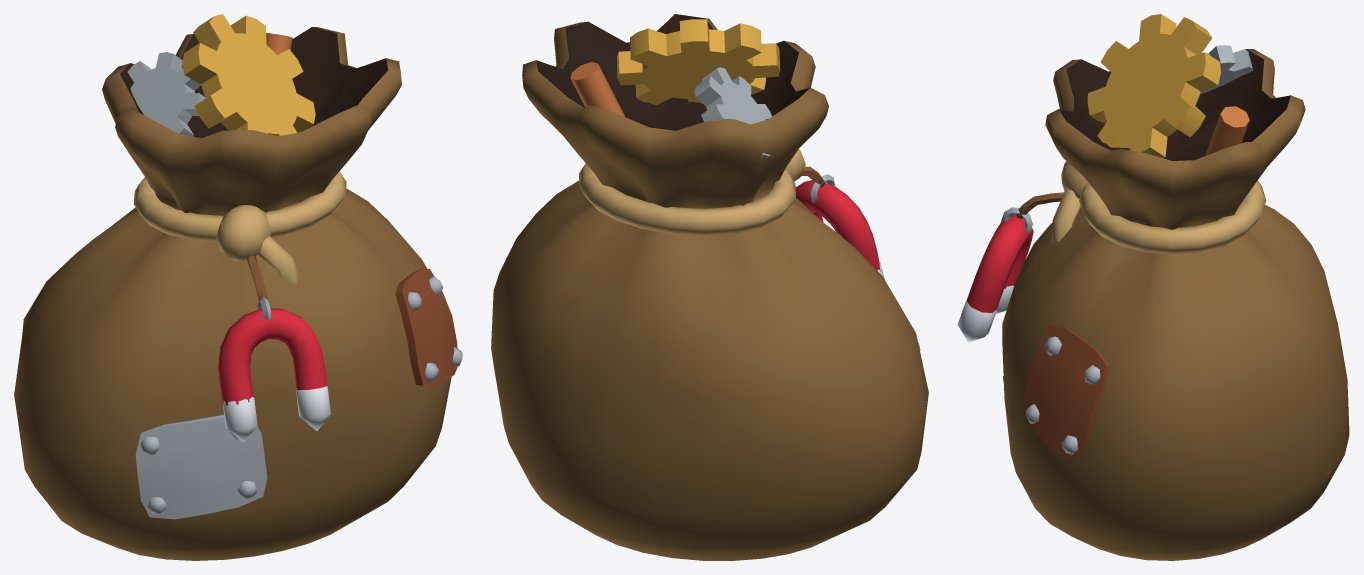
The model's file is item_pouch_scavenger.glb.
3 views of the same model, side by side, from view 1: azimuth 30°, elevation 25°; view 2: azimuth 150°, elevation 25°; view 3: azimuth 270°, elevation 25° (orthographic). The views are drawn at different scales.
Parts seen in each view (by area): view 1: PouchScavenger; view 2: PouchScavenger; view 3: PouchScavenger.
Part boxes in pixels (box(x1,y1,x2,y2)): PouchScavenger: box(14, 14, 462, 560); PouchScavenger: box(491, 14, 928, 560); PouchScavenger: box(957, 14, 1349, 560).
Size of the model in its own units: 0.3034 by 0.36 by 0.2615.
